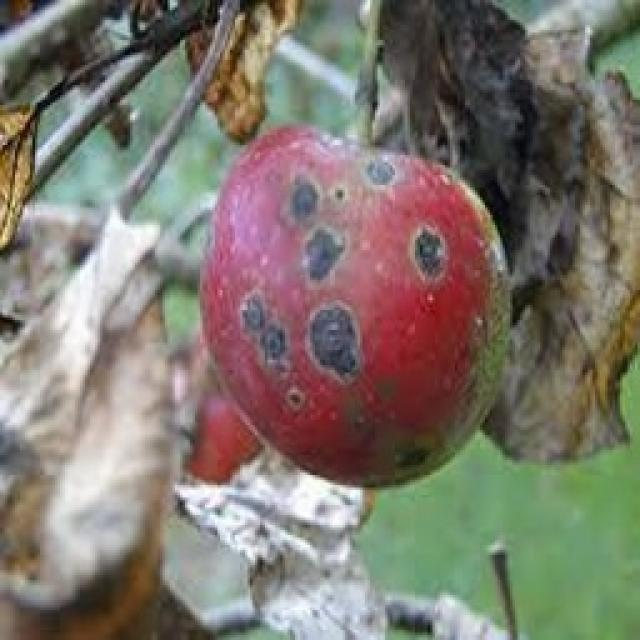defective: (195, 120, 512, 490)
